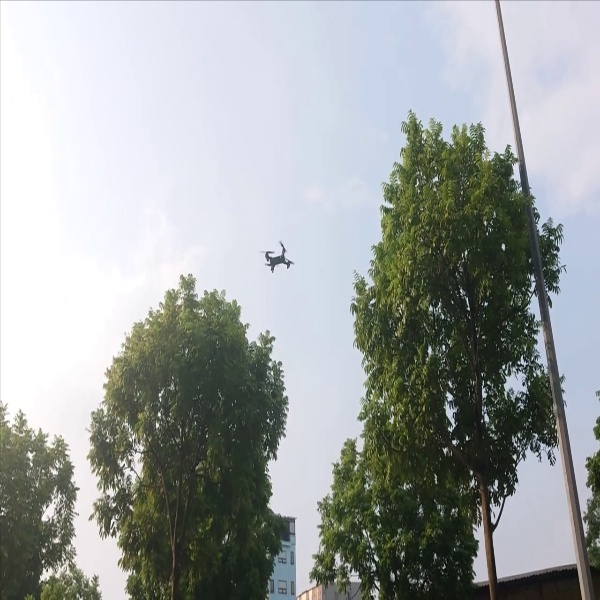drone: (257, 238, 300, 278)
